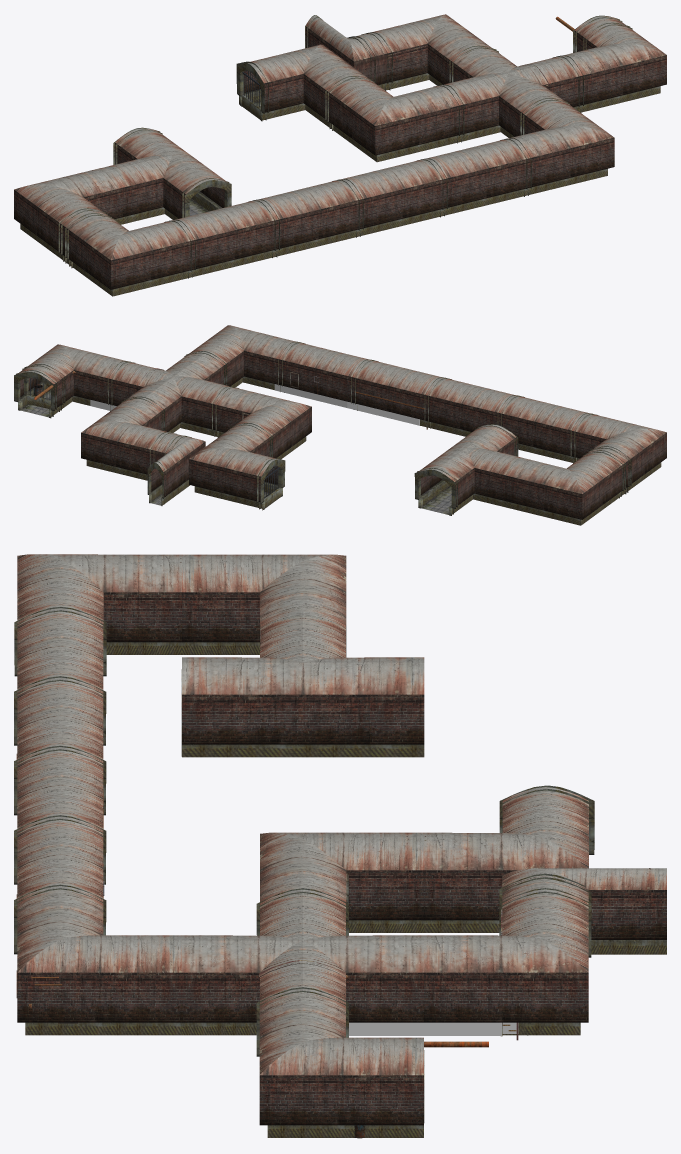
File: World (3).fbx
3 renders of one model, top to bottom at view 1: azimuth 30°, elevation 25°; view 2: azimuth 150°, elevation 25°; view 3: azimuth 270°, elevation 25°, orthographic. The views are drawn at different scales.
Parts seen in each view (by area): view 1: Sewer_bit_3, Sewer_bit_2_11, Sewer_bit_2_12, Sewer_kit_T, Sewer_bit_2, Sewer_bit_2_9, Sewer_bit_2_14, Sewer_bit_2_13, Sewer_bit_1, Sewer_bit_1_5, Sewer_bit_1_7, Sewer_bit_1_6 (+5 smaller); view 2: Sewer_bit_2_13, Sewer_bit_3, Sewer_kit_T, Sewer_bit_2_14, Sewer_bit_2_10, Sewer_bit_2_9, Sewer_bit_2_12, Sewer_bit_2_11, Sewer_bit_2, Sewer_bit_1_7, Sewer_bit_1_6, Sewer_bit_1_5 (+10 smaller); view 3: Sewer_kit_T, Sewer_bit_3, Sewer_bit_2, Sewer_bit_2_9, Sewer_bit_2_10, Sewer_bit_2_14, Sewer_bit_2_13, Sewer_bit_2_12, Sewer_bit_2_11, Sewer_bit_2_15, Sewer_bit_1_5, Sewer_bit_1_7 (+3 smaller).
Boxes of the visible parts, box(x1,y1,x2,y2) form: Sewer_bit_3: box(440, 46, 582, 142); Sewer_bit_2_11: box(326, 76, 459, 162); Sewer_bit_2_12: box(62, 211, 194, 296); Sewer_kit_T: box(102, 128, 227, 224); Sewer_bit_2: box(509, 98, 614, 194); Sewer_bit_2_9: box(564, 16, 666, 112); Sewer_bit_2_14: box(242, 44, 368, 127); Sewer_bit_2_13: box(14, 168, 123, 261); Sewer_bit_1: box(426, 138, 530, 215); Sewer_bit_1_5: box(343, 159, 446, 235); Sewer_bit_1_7: box(175, 200, 278, 276); Sewer_bit_1_6: box(258, 179, 362, 256); Sewer_bit_2_13: box(509, 451, 624, 525); Sewer_bit_3: box(108, 353, 232, 436); Sewer_kit_T: box(418, 424, 527, 514); Sewer_bit_2_14: box(189, 425, 280, 508); Sewer_bit_2_10: box(81, 398, 170, 480); Sewer_bit_2_9: box(17, 344, 125, 417); Sewer_bit_2_12: box(571, 413, 666, 495); Sewer_bit_2_11: box(216, 387, 311, 459); Sewer_bit_2: box(187, 325, 295, 389); Sewer_bit_1_7: box(498, 395, 588, 462); Sewer_bit_1_6: box(425, 378, 515, 436); Sewer_bit_1_5: box(352, 360, 441, 427); Sewer_kit_T: box(182, 611, 424, 757); Sewer_bit_3: box(181, 889, 423, 1035); Sewer_bit_2: box(17, 889, 181, 1035); Sewer_bit_2_9: box(259, 992, 423, 1137); Sewer_bit_2_10: box(424, 889, 588, 1035); Sewer_bit_2_14: box(424, 787, 588, 932); Sewer_bit_2_13: box(182, 554, 346, 657); Sewer_bit_2_12: box(17, 554, 181, 654); Sewer_bit_2_11: box(260, 832, 424, 932); Sewer_bit_2_15: box(502, 868, 666, 954); Sewer_bit_1_5: box(17, 750, 103, 832); Sewer_bit_1_7: box(17, 611, 103, 693).
Bounding box in the file's own units: 3902 × 299 × 2061.
